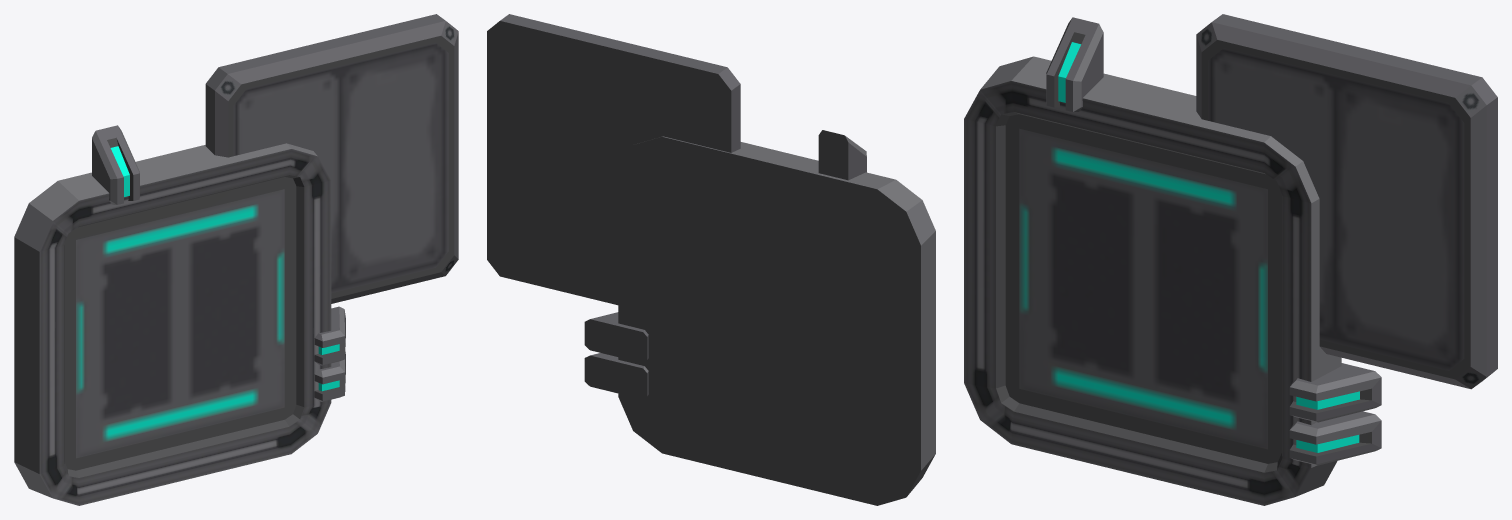
File: cyber_SM_Prop_Greebles_04.gltf
3 views of the same model, side by side, from view 1: azimuth 30°, elevation 25°; view 2: azimuth 150°, elevation 25°; view 3: azimuth 330°, elevation 25° (orthographic). The views are drawn at different scales.
Parts seen in each view (by area): view 1: SM_Prop_Greebles_04; view 2: SM_Prop_Greebles_04; view 3: SM_Prop_Greebles_04.
Boxes of the visible parts, box(x1,y1,x2,y2) form: SM_Prop_Greebles_04: box(14, 14, 458, 505); SM_Prop_Greebles_04: box(487, 14, 935, 505); SM_Prop_Greebles_04: box(964, 14, 1497, 505).
Bounding box in the file's own units: 1.6 × 1.38 × 0.1772.
1 material, 1 textured.
